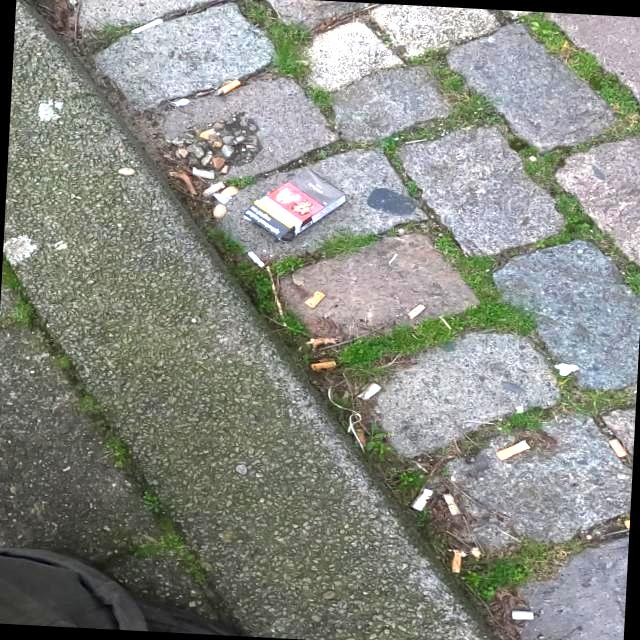Paper: (240, 163, 350, 244)
